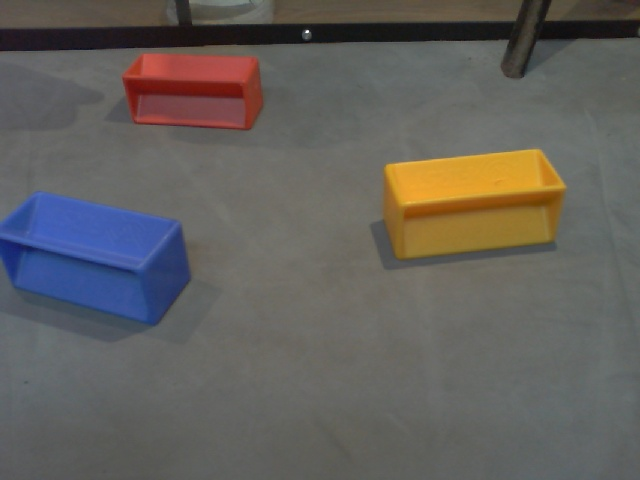BlueSample: (1, 186, 197, 329)
RedSample: (118, 50, 267, 133)
YellowSample: (381, 147, 568, 264)
